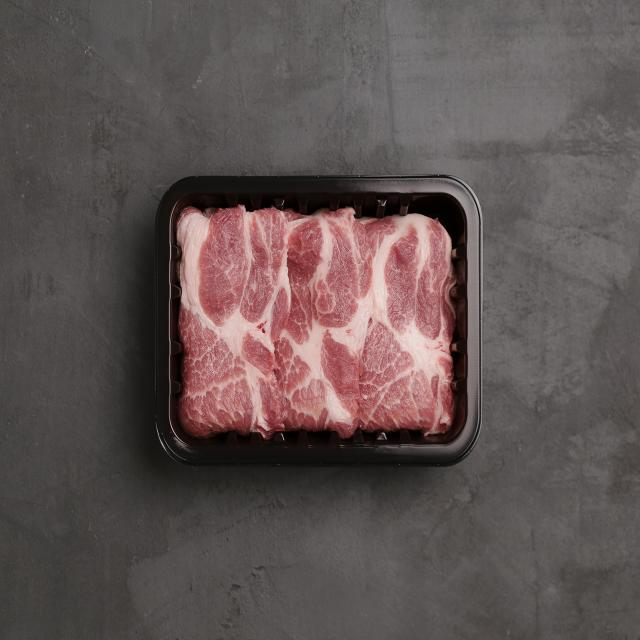pork: (132, 172, 499, 474)
